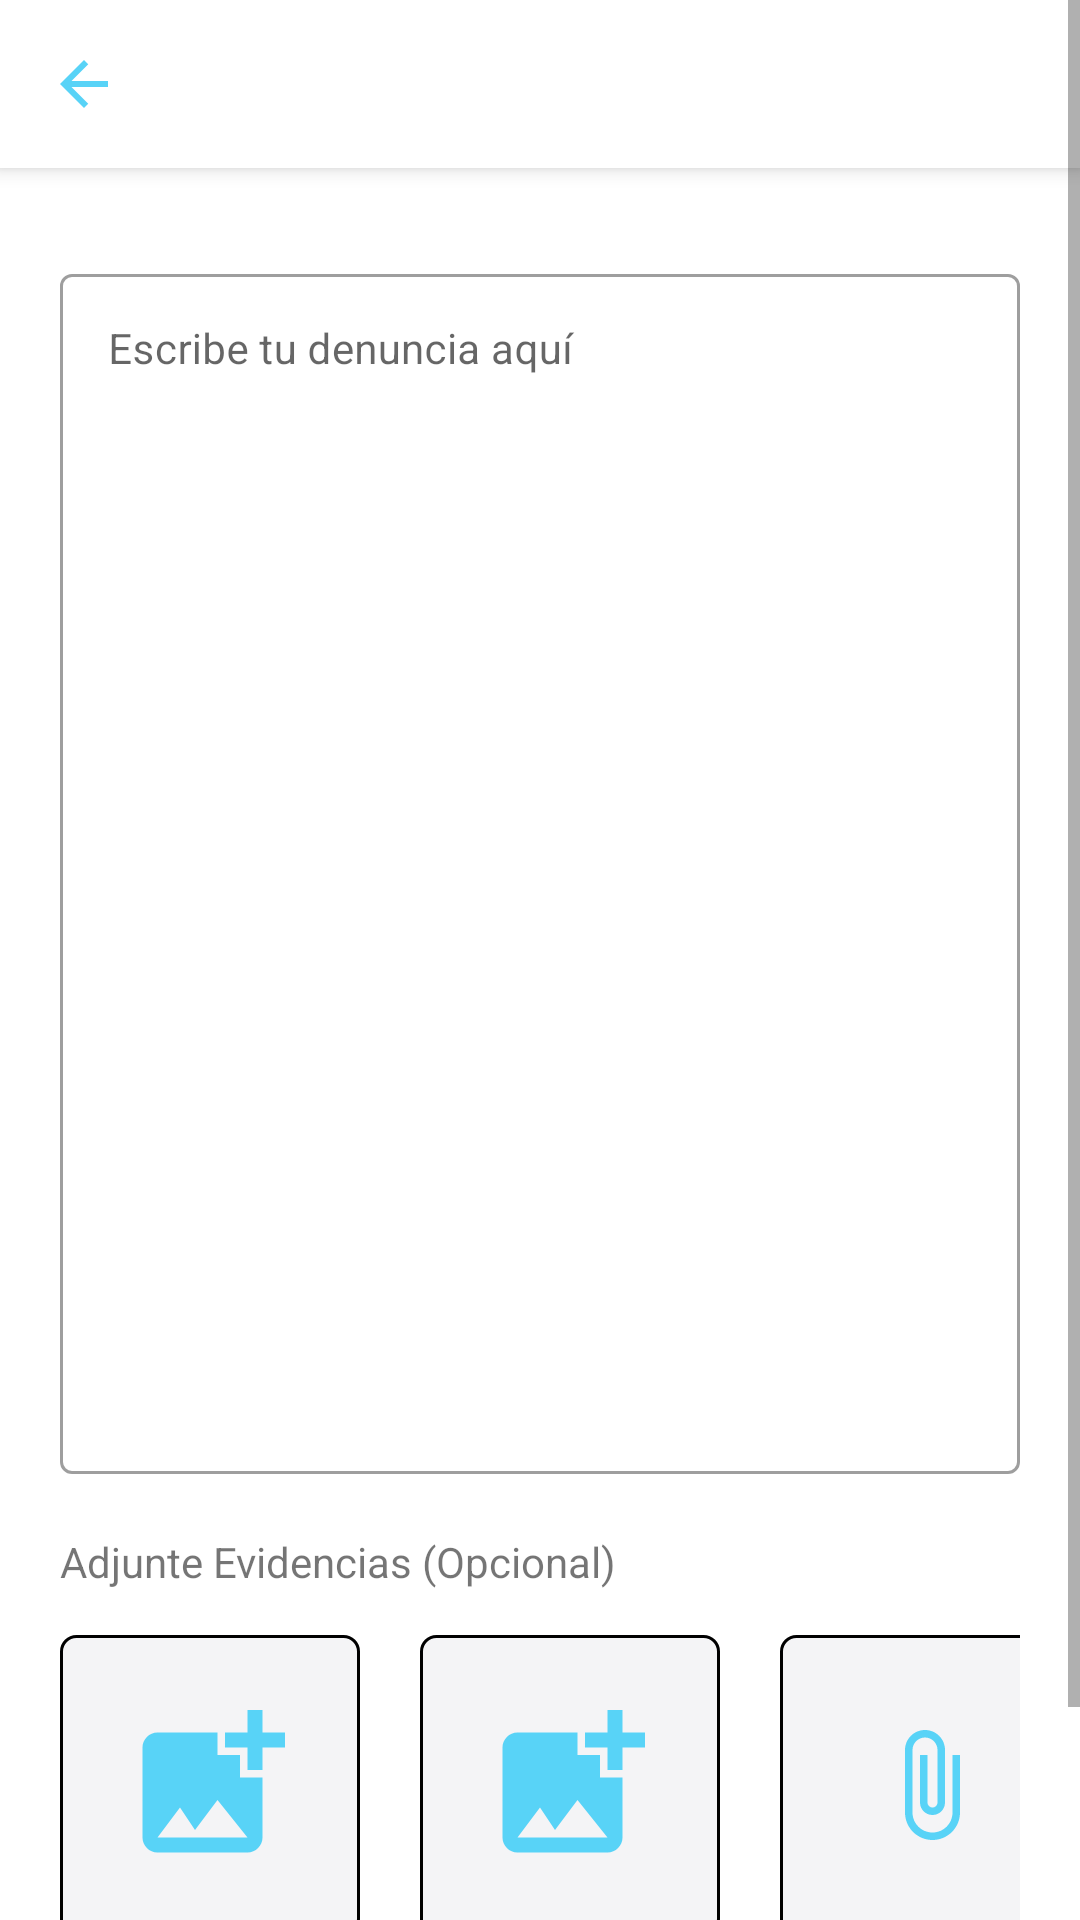

Icons on this 1080 × 1920 Android screen, each with its box as box=[x1, y1, x2, y2]:
add photo alternate: box=[60, 1635, 360, 1920], box=[420, 1635, 720, 1920]
